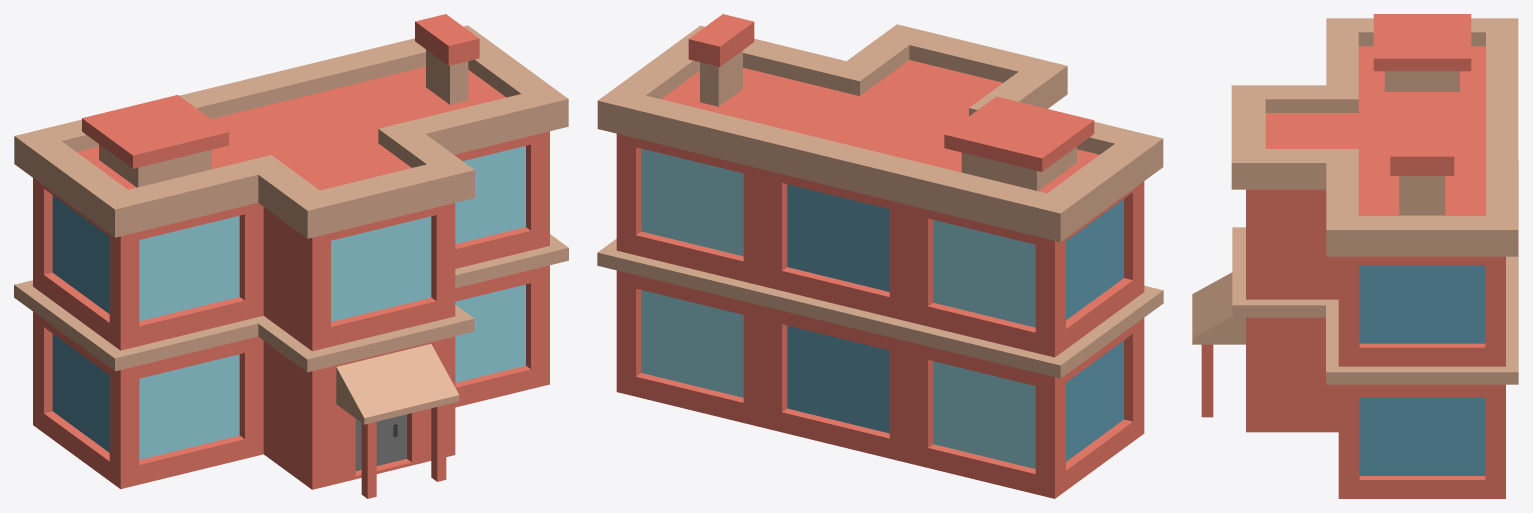
Rendered from House 3.1.fbx.
3 views of the same model, side by side, from view 1: azimuth 30°, elevation 25°; view 2: azimuth 150°, elevation 25°; view 3: azimuth 270°, elevation 25° (orthographic). The views are drawn at different scales.
Visible parts, largest first — view 1: House_Type3_1; view 2: House_Type3_1; view 3: House_Type3_1.
Part boxes in pixels (x1,y1,x2,y2): House_Type3_1: [14, 14, 568, 498]; House_Type3_1: [597, 14, 1163, 498]; House_Type3_1: [1192, 14, 1518, 498].
Bounding box in the file's own units: 971 × 688 × 632.
